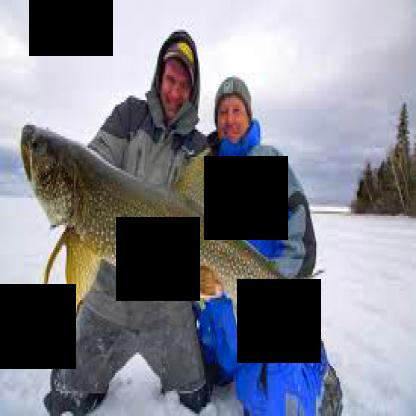fish: (18, 113, 320, 342)
